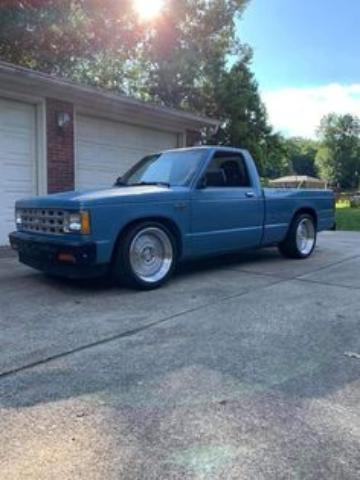pickup-truck: (8, 145, 337, 290)
